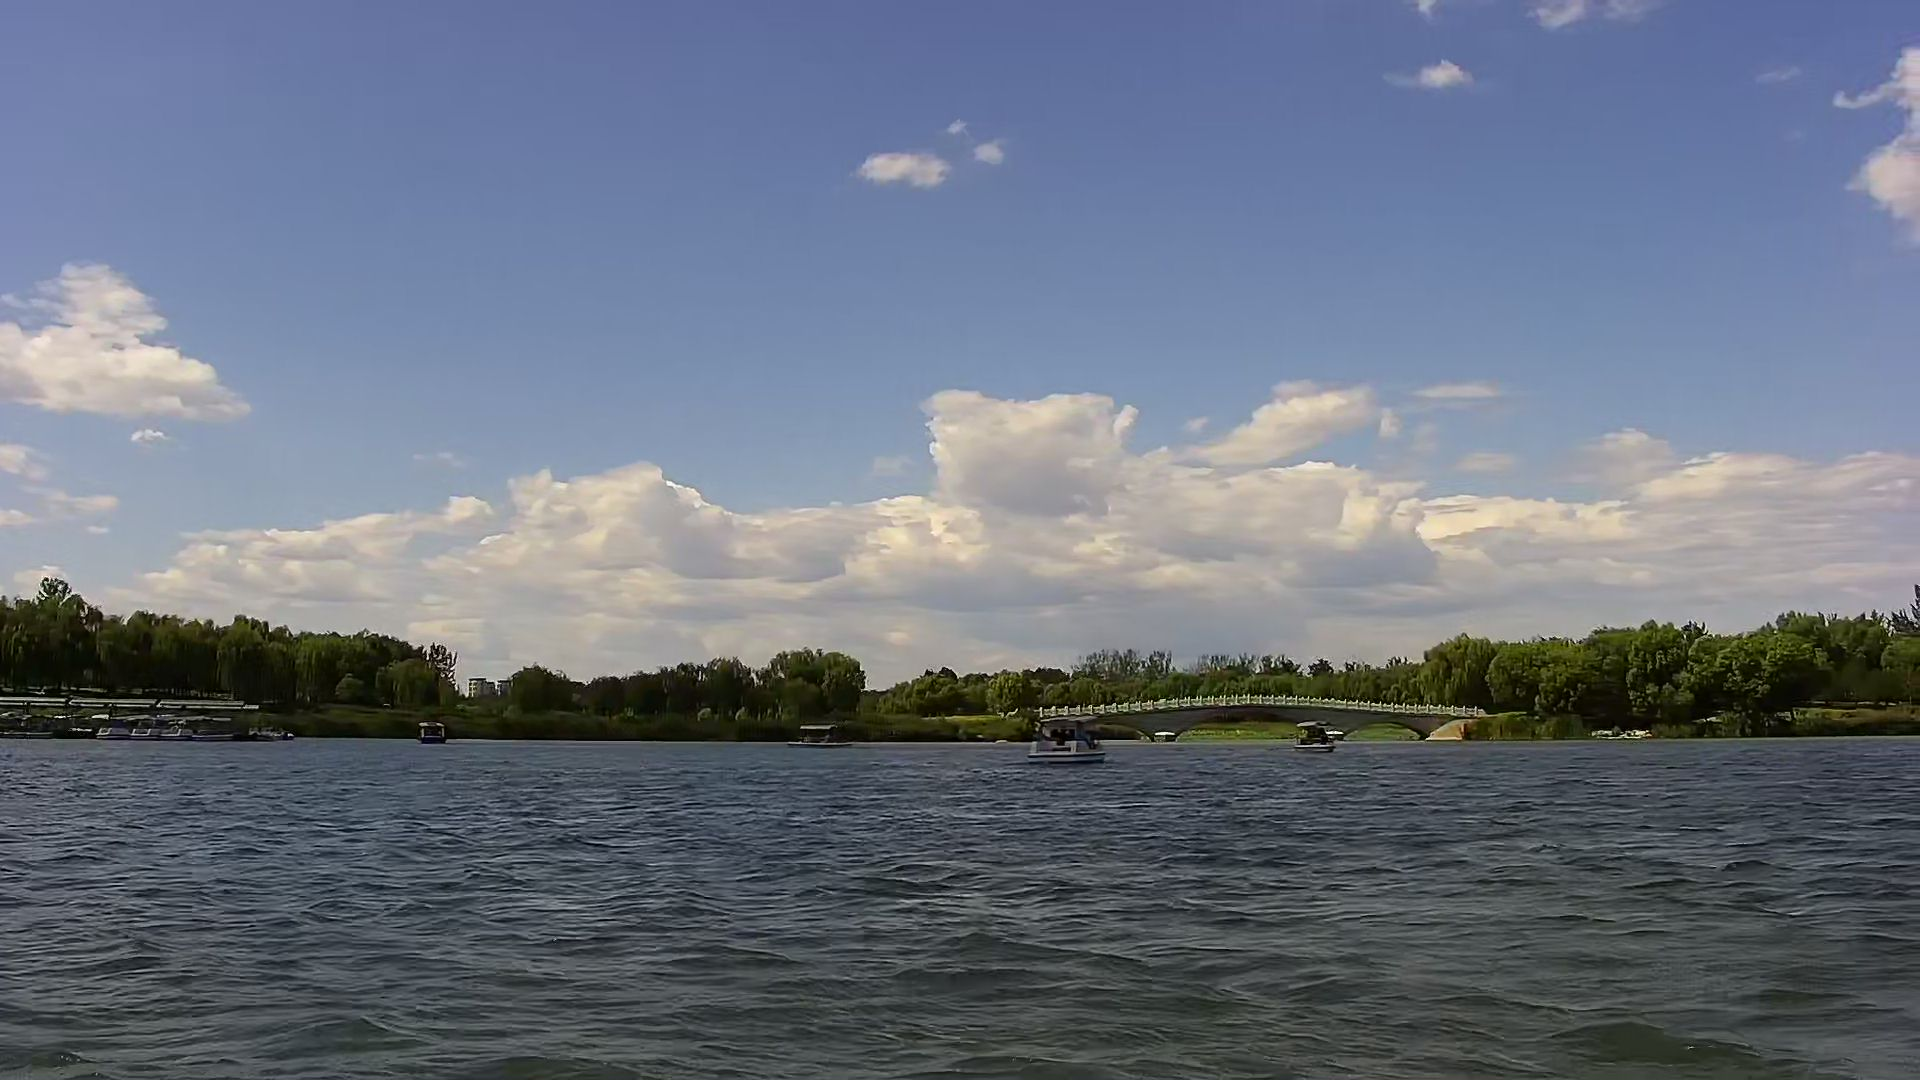boat: (1019, 713, 1121, 774), (779, 713, 855, 756), (1287, 716, 1357, 760), (401, 712, 459, 749)
bridge: (1025, 686, 1484, 748)
